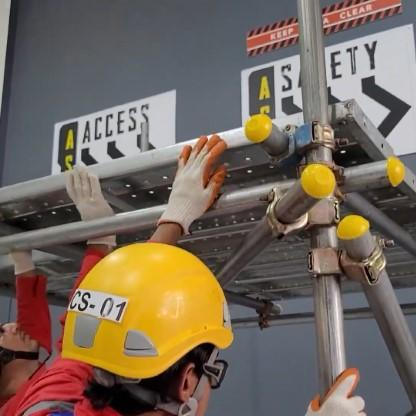helmet: (57, 232, 228, 415)
